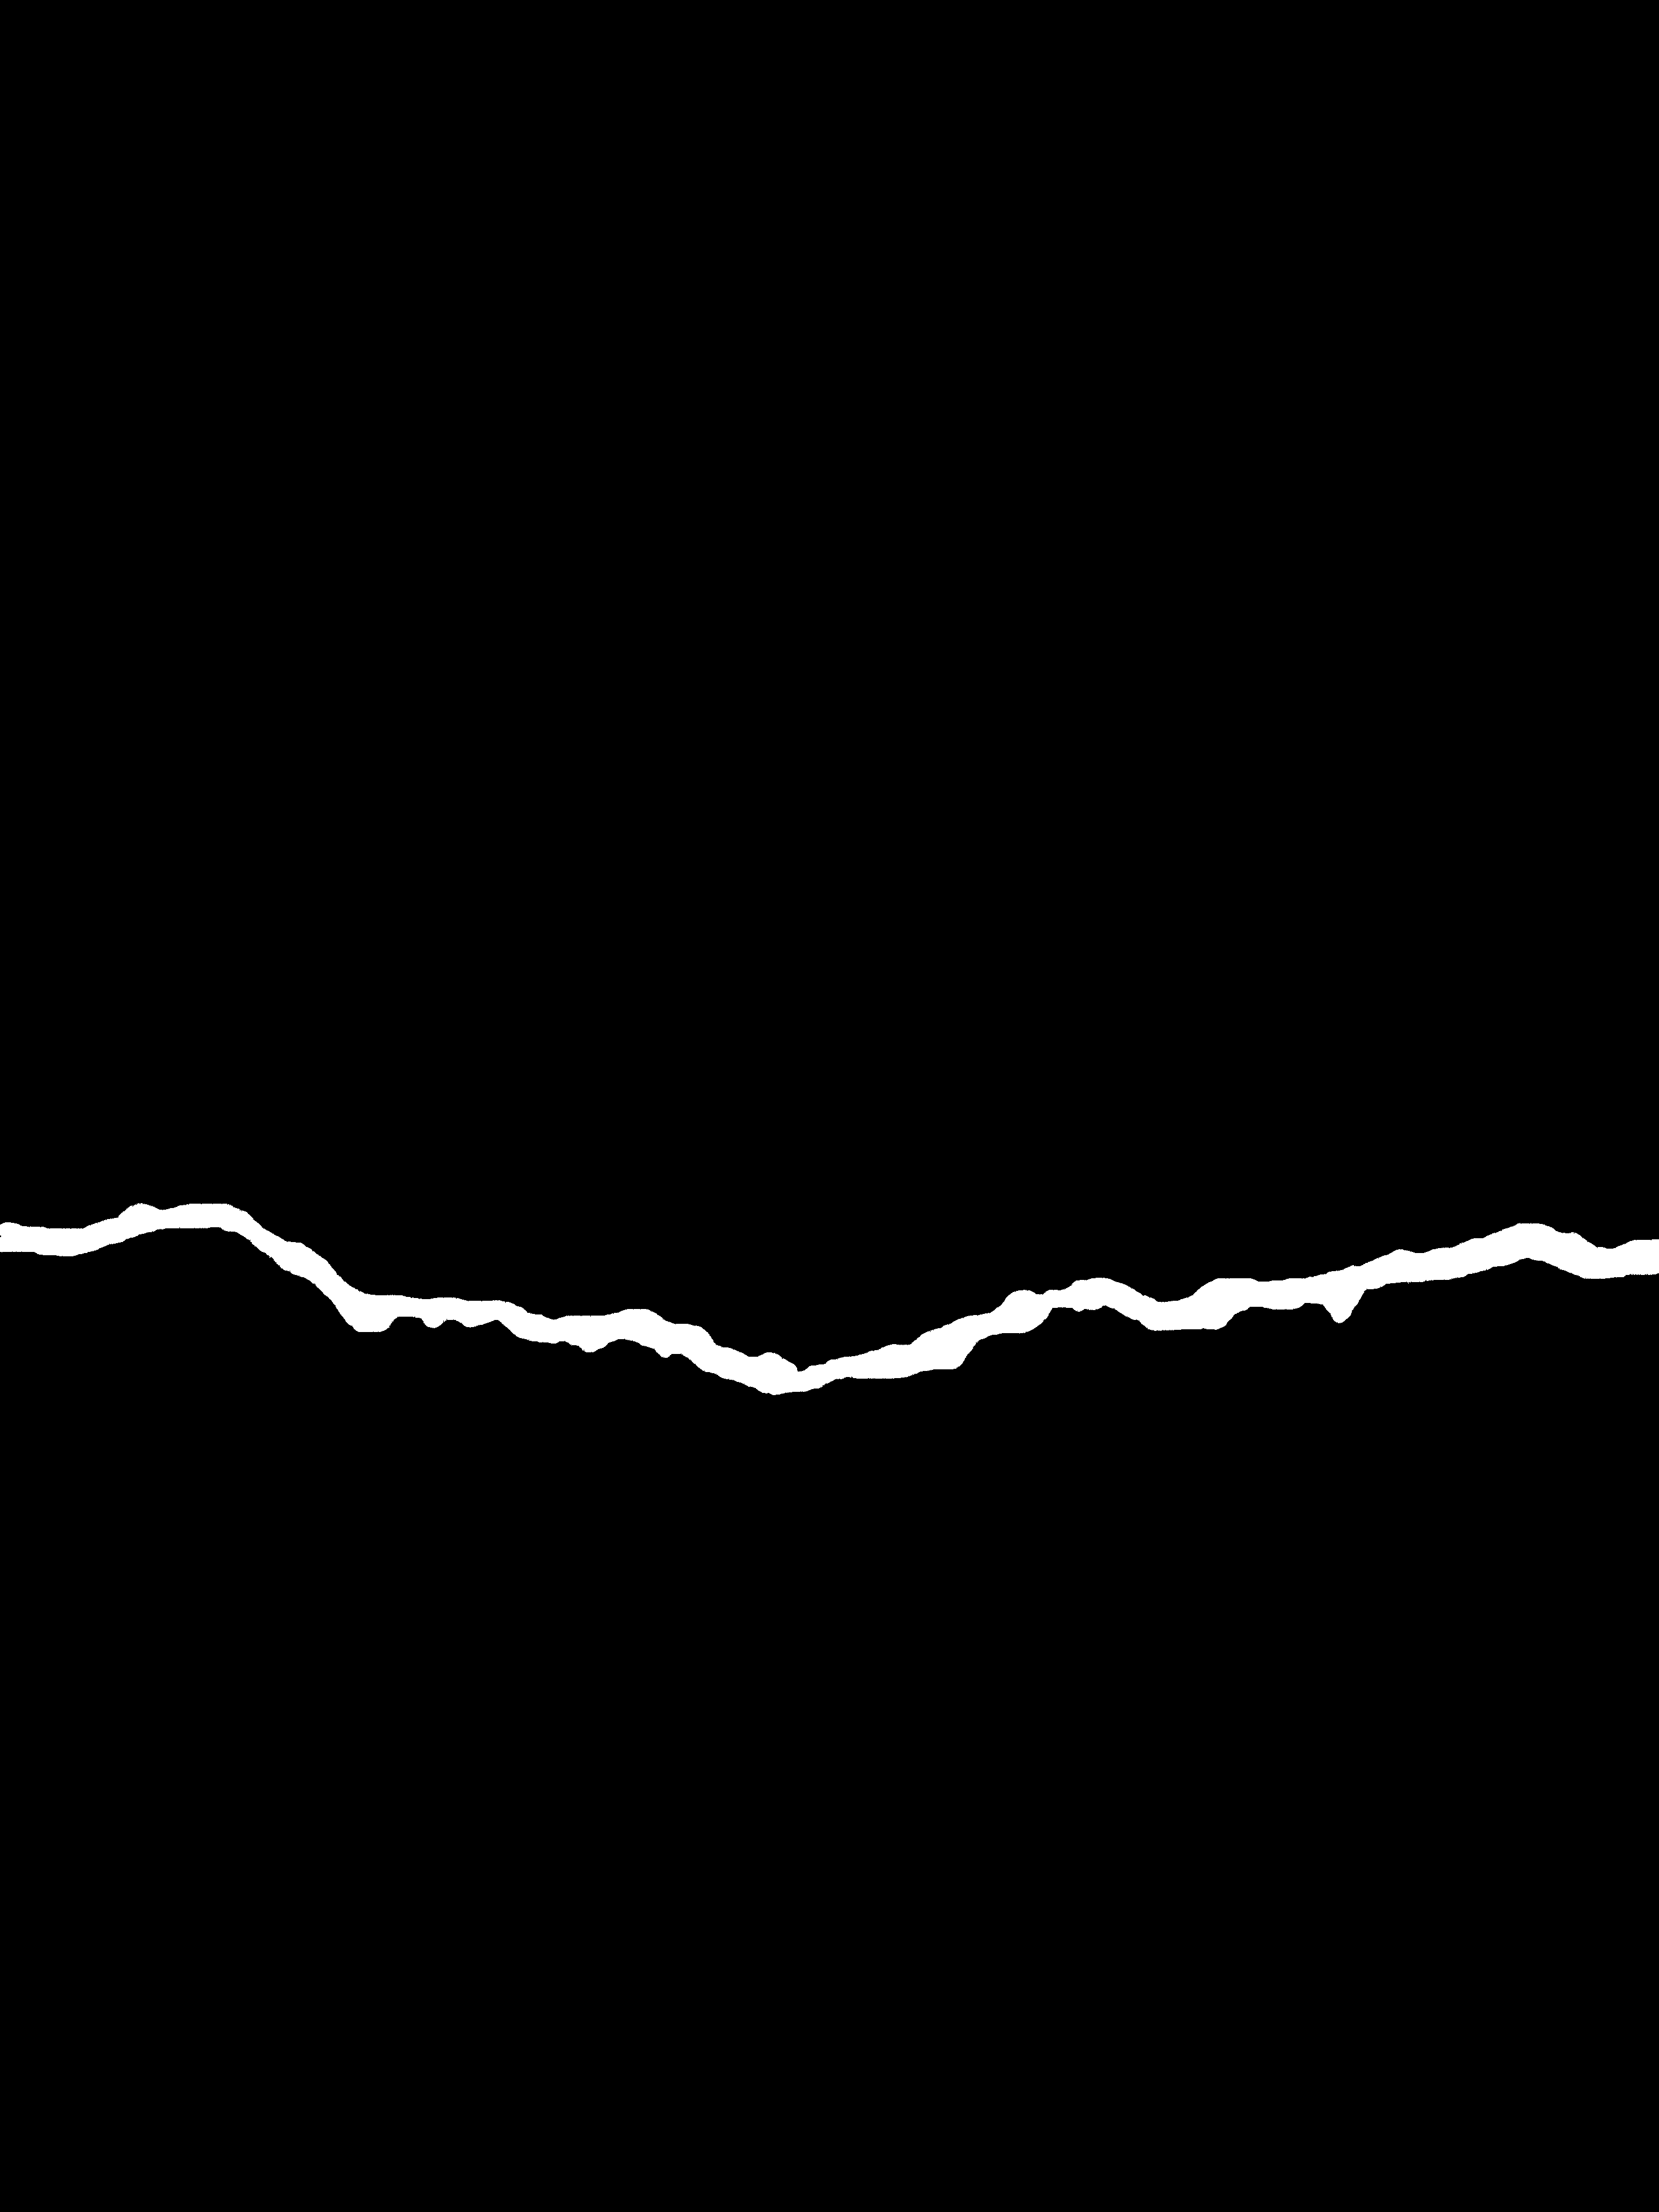Crack: (0, 1151, 1659, 1420)
